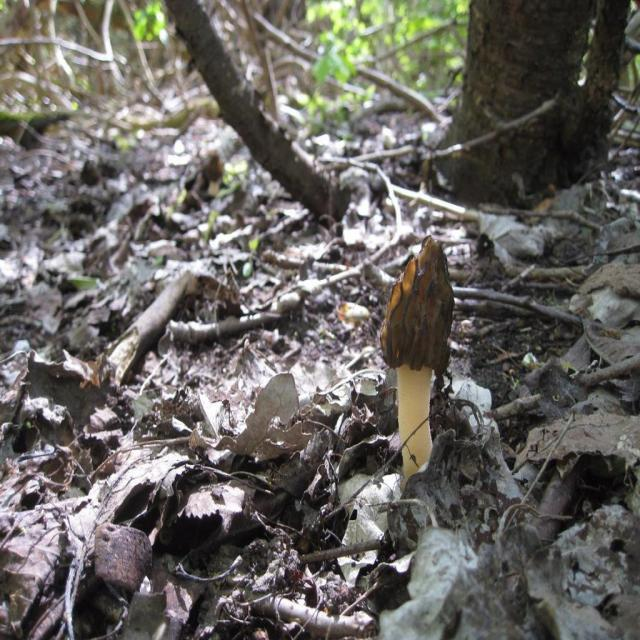Morchella esculenta: (381, 236, 452, 468)
